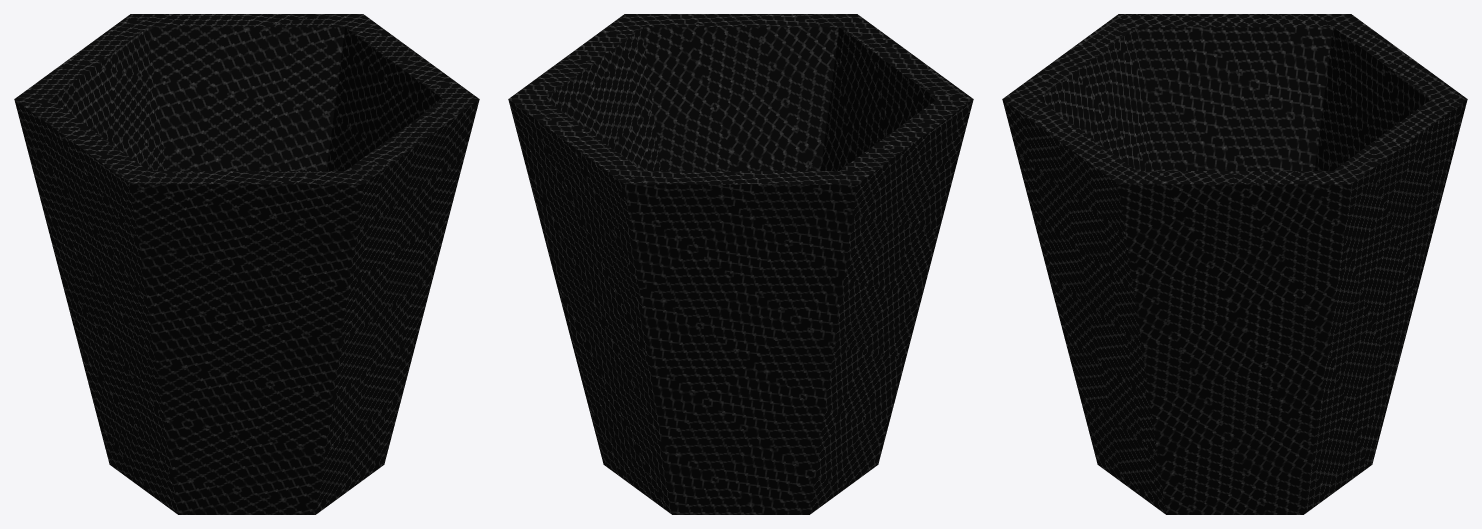
The model's file is Bin.fbx.
The picture shows the model from 3 angles, left to right: view 1: azimuth 30°, elevation 25°; view 2: azimuth 150°, elevation 25°; view 3: azimuth 270°, elevation 25°; orthographic projection.
Parts seen in each view (by area): view 1: Trash; view 2: Trash; view 3: Trash.
Boxes of the visible parts, x1,y1,x2,y2 form: Trash: (14,14,479,514); Trash: (508,14,973,514); Trash: (1002,14,1467,514).
Size of the model in its own units: 0.433 by 0.4333 by 0.5.
Materials: 1 (1 with a texture image).
